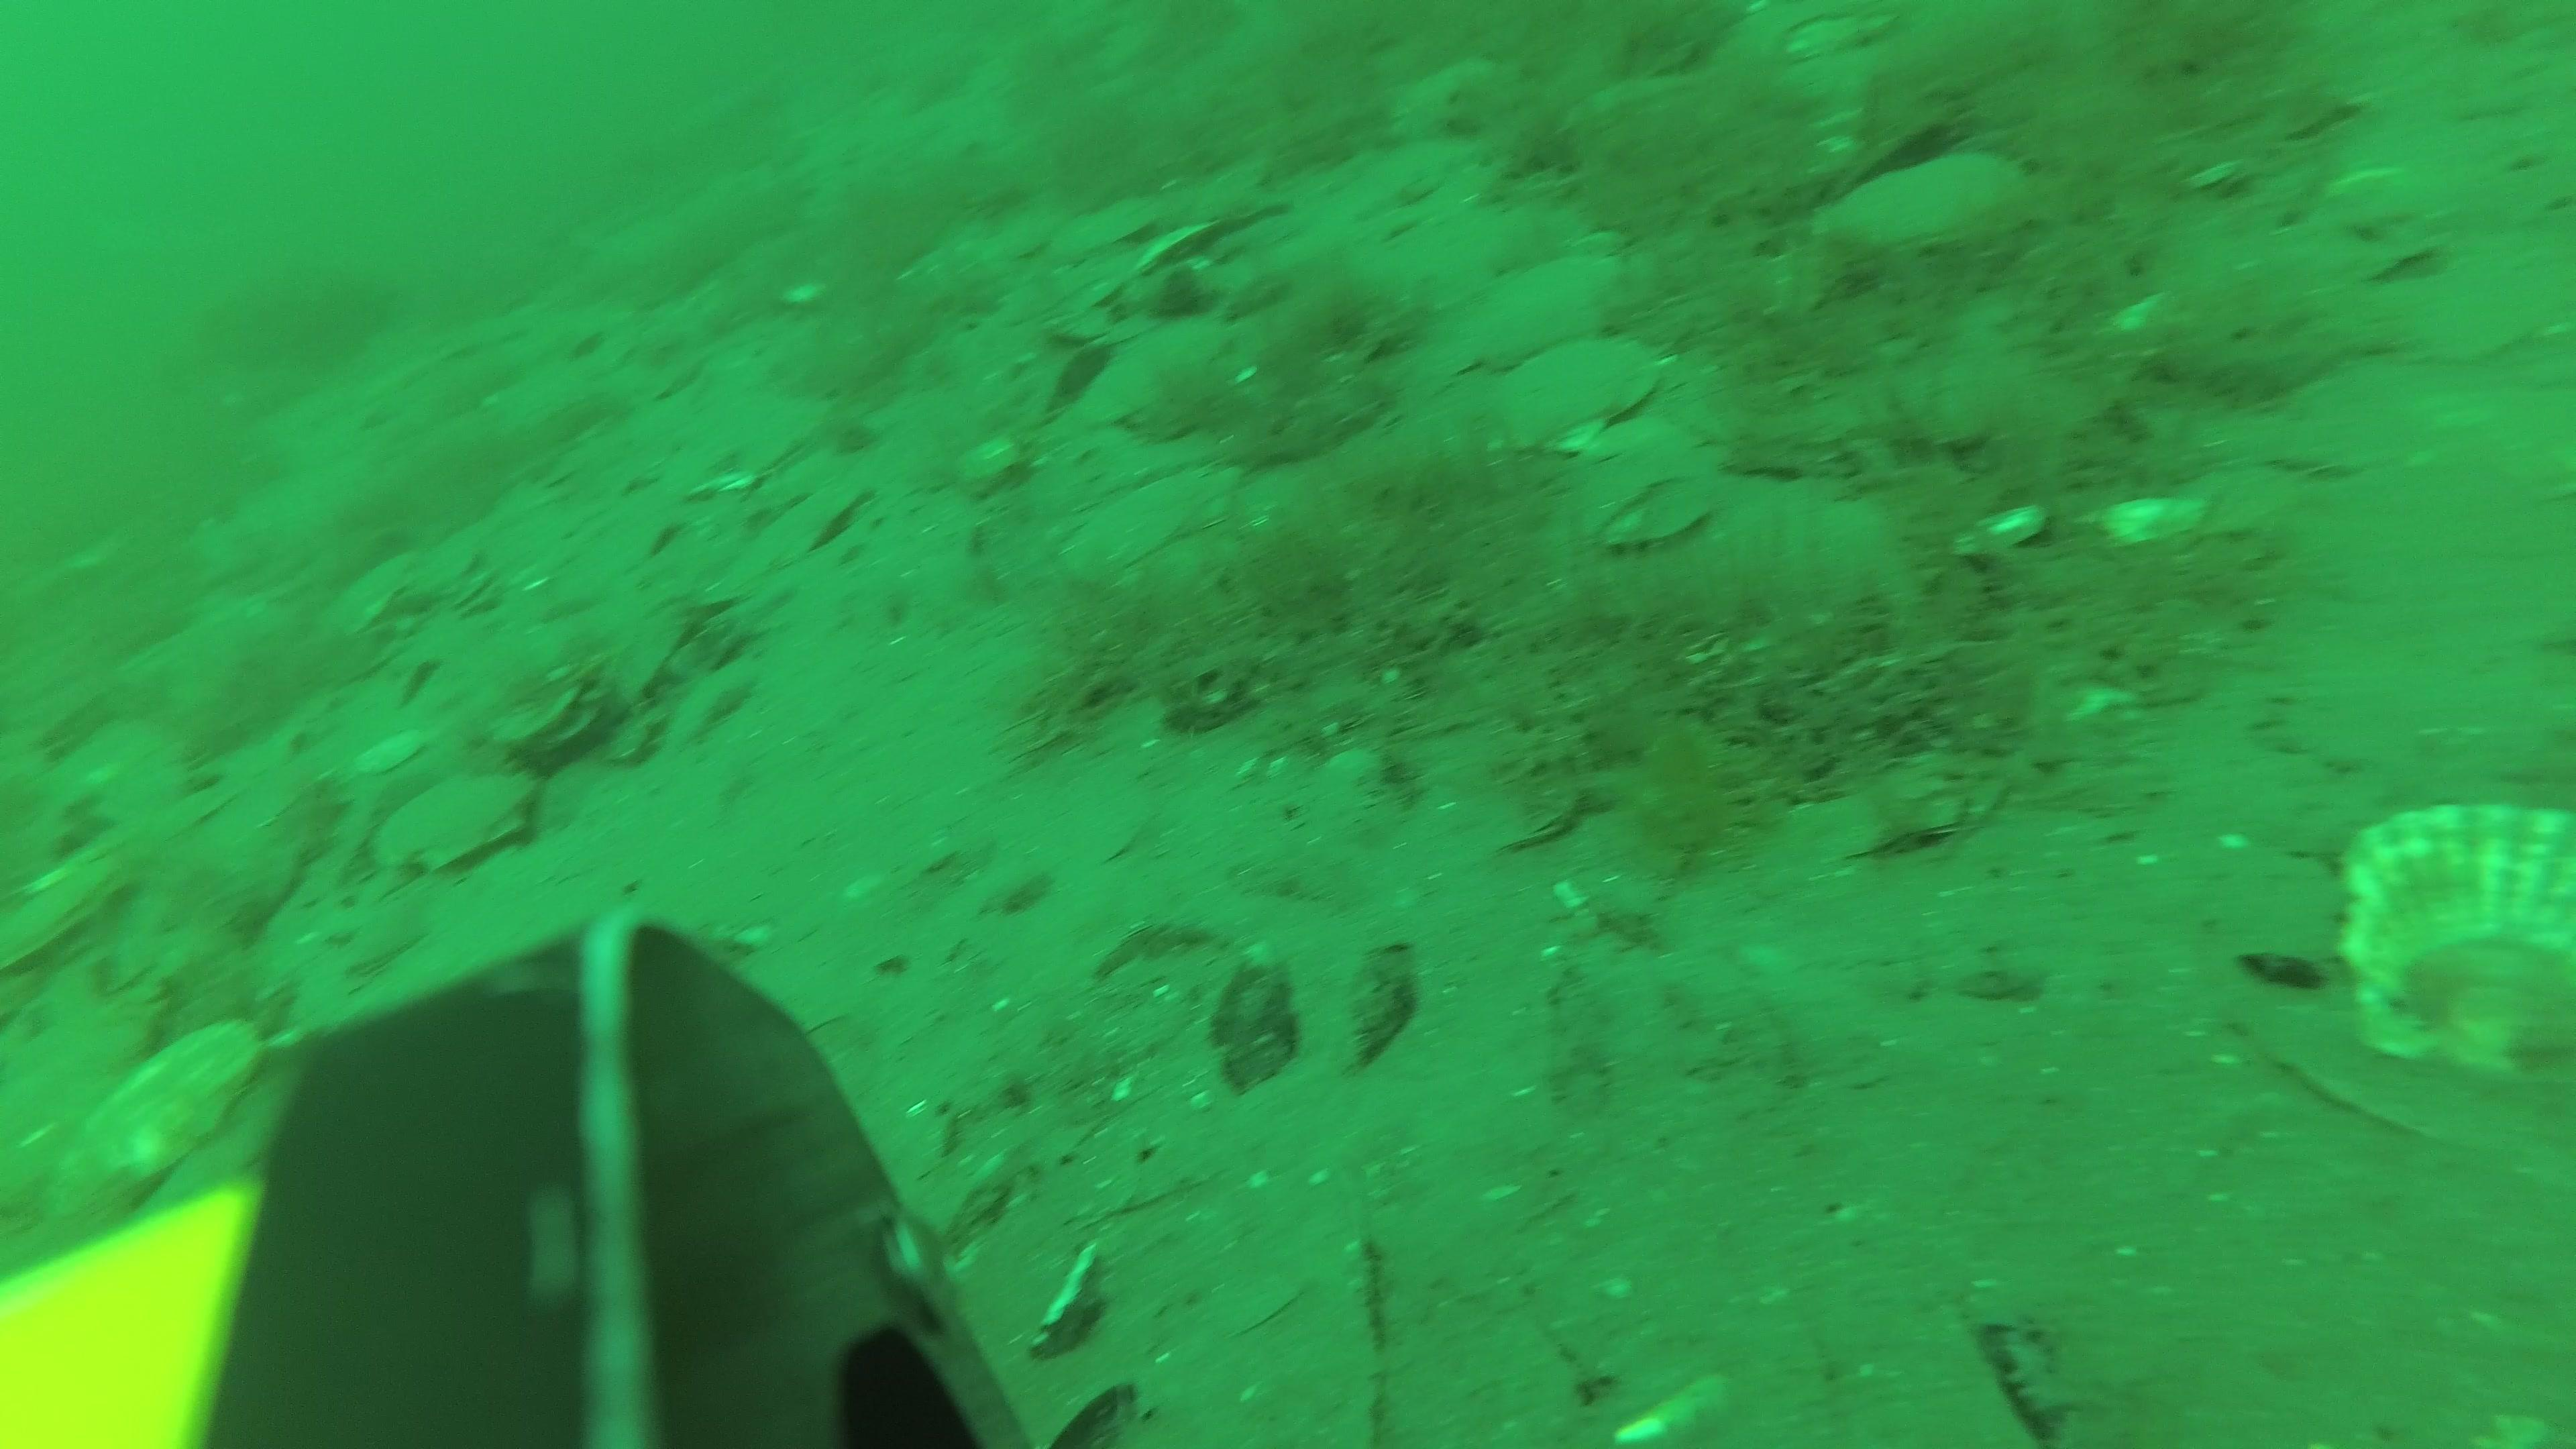scallop: (2337, 791, 2576, 1085), (60, 1019, 280, 1214), (1815, 136, 2026, 255), (1060, 456, 1244, 586), (1493, 327, 1668, 460), (359, 766, 545, 883), (1474, 242, 1640, 361), (0, 844, 133, 985), (345, 724, 433, 780)
